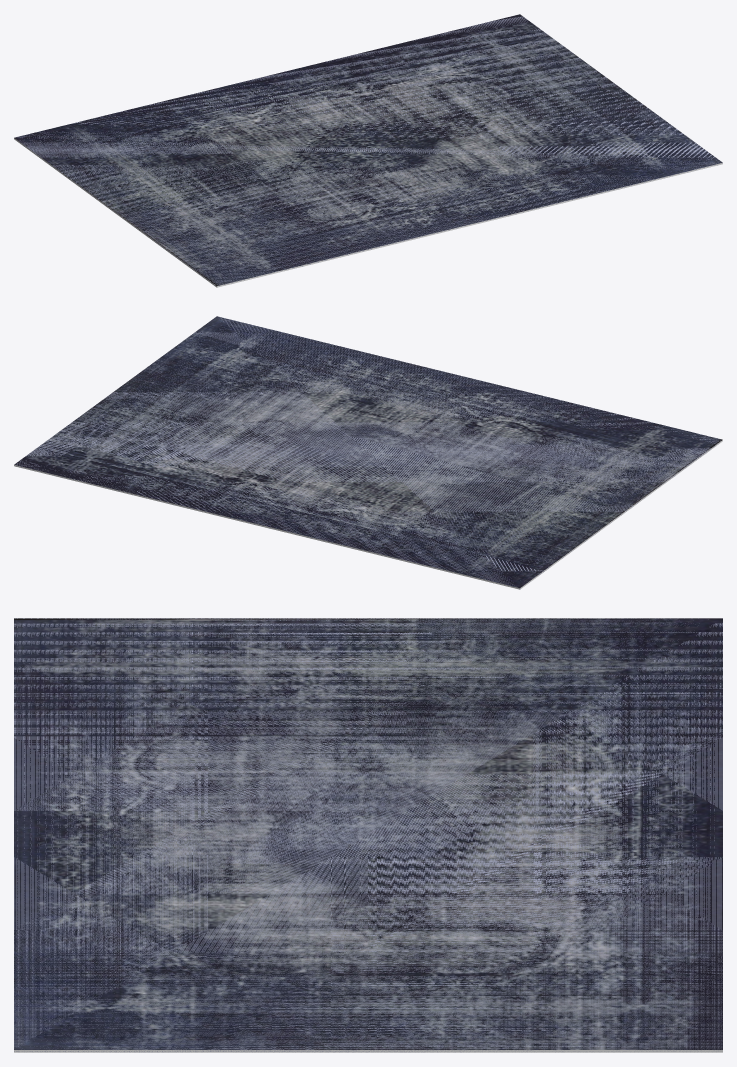
The picture shows the model from 3 angles, top to bottom: view 1: azimuth 30°, elevation 25°; view 2: azimuth 150°, elevation 25°; view 3: azimuth 270°, elevation 25°; orthographic projection. The views are drawn at different scales.
Parts seen in each view (by area): view 1: SketchUp (×2); view 2: SketchUp (×2); view 3: SketchUp (×2).
Boxes of the visible parts, x1=… form: SketchUp (×2): x1=14, y1=14, x2=722, y2=287; SketchUp (×2): x1=14, y1=316, x2=722, y2=589; SketchUp (×2): x1=14, y1=618, x2=722, y2=1052.
Size of the model in its own units: 142 by 98.43 by 0.3937.
3 materials, 1 textured.
